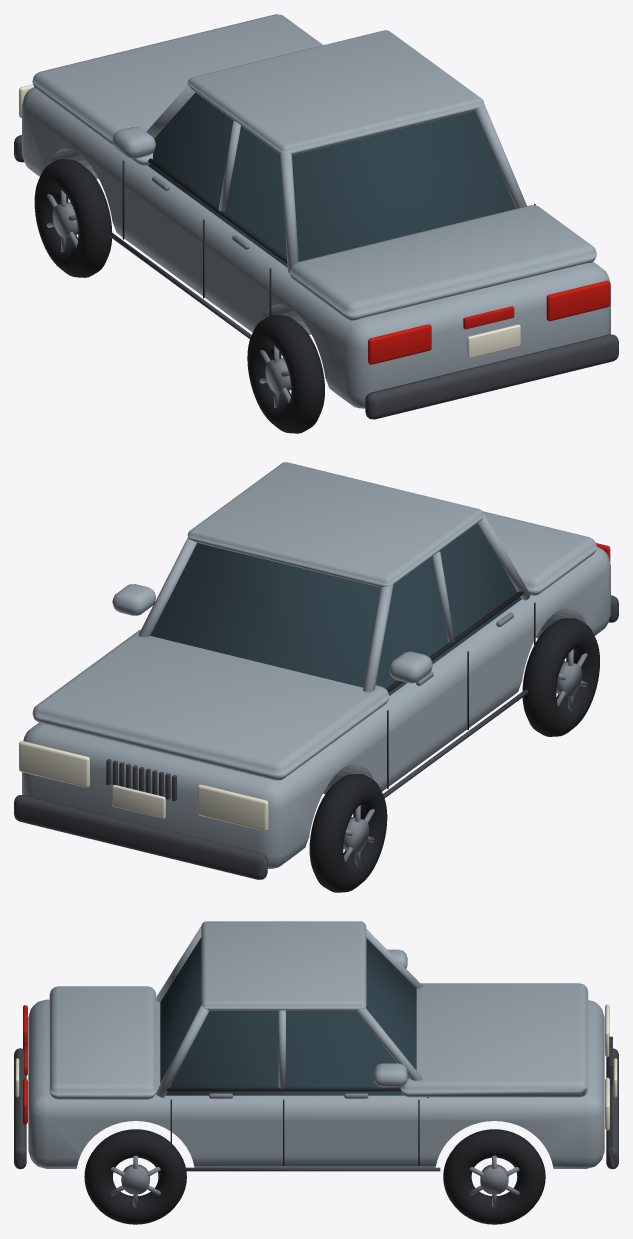
File: sedan.glb
The picture shows the model from 3 angles, top to bottom: view 1: azimuth 30°, elevation 25°; view 2: azimuth 150°, elevation 25°; view 3: azimuth 270°, elevation 25°; orthographic projection. The views are drawn at different scales.
Parts seen in each view (by area): view 1: Paint, Window glass, Rubber, Engine, Tail lamp, Brushed steel, Headlight; view 2: Paint, Window glass, Rubber, Engine, Headlight, Brushed steel; view 3: Paint, Window glass, Rubber, Engine, Brushed steel, Headlight, Tail lamp.
Part boxes in pixels (left/top/right/bottom): Paint: left=22, top=14, right=610, bottom=408; Window glass: left=147, top=92, right=515, bottom=267; Rubber: left=34, top=158, right=535, bottom=433; Engine: left=14, top=135, right=618, bottom=419; Tail lamp: left=368, top=280, right=610, bottom=364; Brushed steel: left=46, top=176, right=291, bottom=408; Headlight: left=19, top=84, right=520, bottom=358; Paint: left=22, top=462, right=610, bottom=868; Window glass: left=150, top=523, right=521, bottom=695; Rubber: left=309, top=591, right=599, bottom=892; Engine: left=14, top=595, right=618, bottom=879; Headlight: left=19, top=741, right=268, bottom=831; Brushed steel: left=343, top=612, right=587, bottom=867; Paint: left=28, top=921, right=604, bottom=1168; Window glass: left=160, top=937, right=416, bottom=1095; Rubber: left=84, top=1087, right=545, bottom=1224; Engine: left=14, top=1036, right=618, bottom=1171; Brushed steel: left=110, top=1093, right=519, bottom=1207; Headlight: left=15, top=1004, right=617, bottom=1130; Tail lamp: left=23, top=1005, right=27, bottom=1124.
Size of the model in its own units: 2.1 by 1.59 by 4.25.
